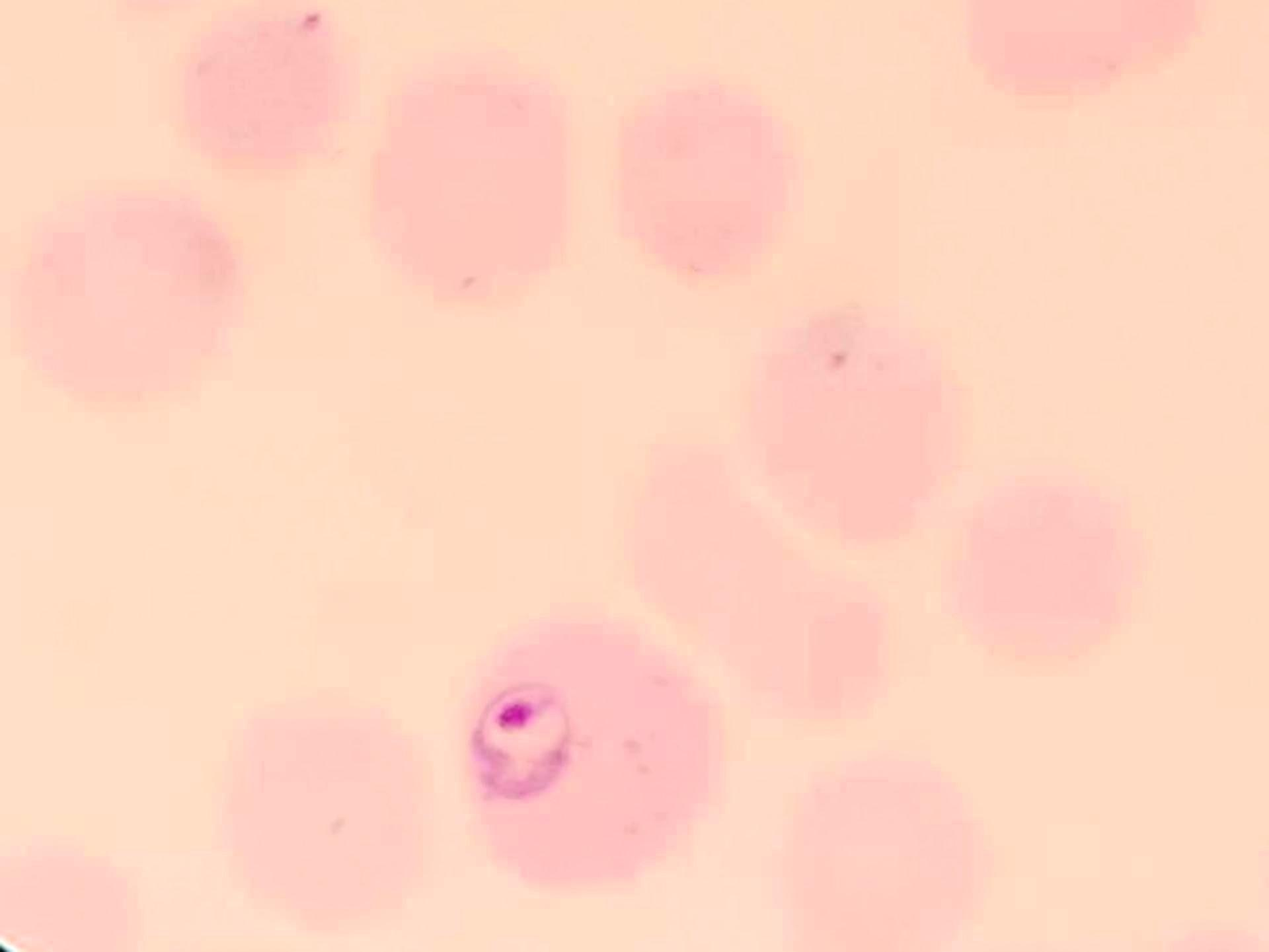Infected: (460, 620, 708, 886)
Uninfected: (626, 458, 885, 719), (360, 50, 576, 300), (739, 304, 963, 543), (17, 192, 241, 404), (226, 706, 429, 923), (775, 753, 980, 952), (945, 479, 1136, 675), (613, 78, 795, 281), (182, 10, 346, 166)
